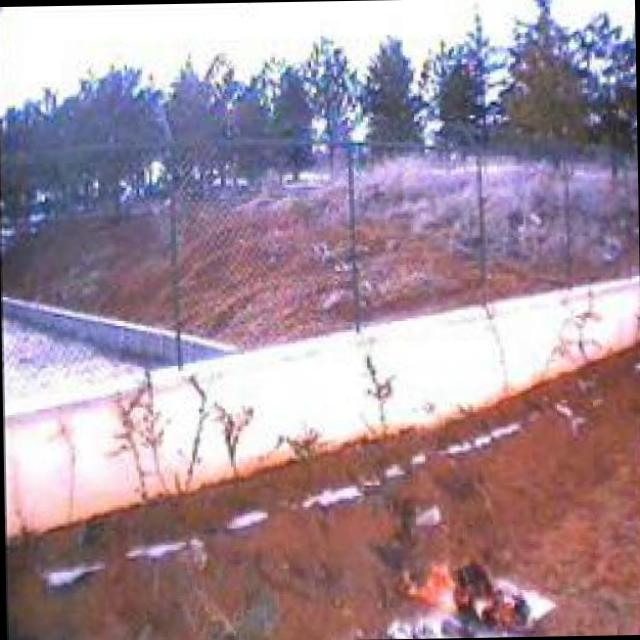Fire: (394, 550, 532, 638)
